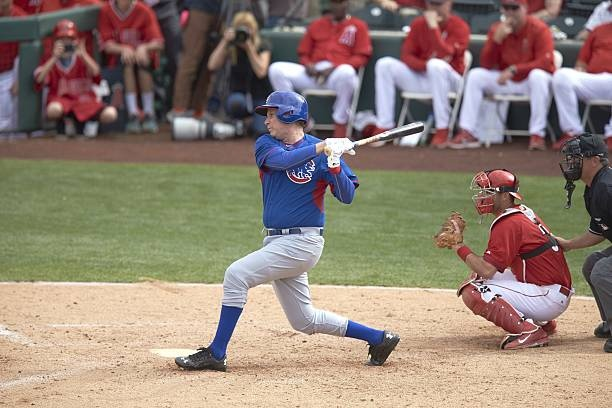bita: (340, 120, 429, 149)
